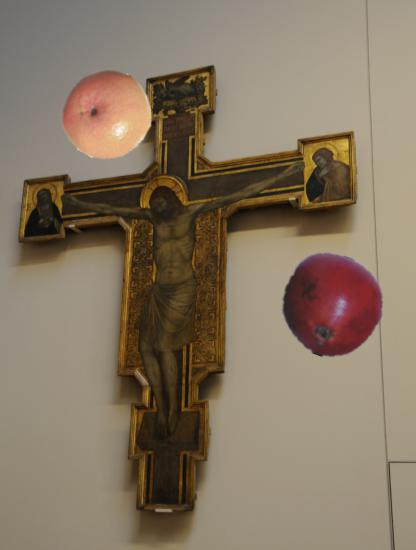Grapefruit: (62, 69, 154, 161)
Pomegranate: (280, 254, 383, 357)
